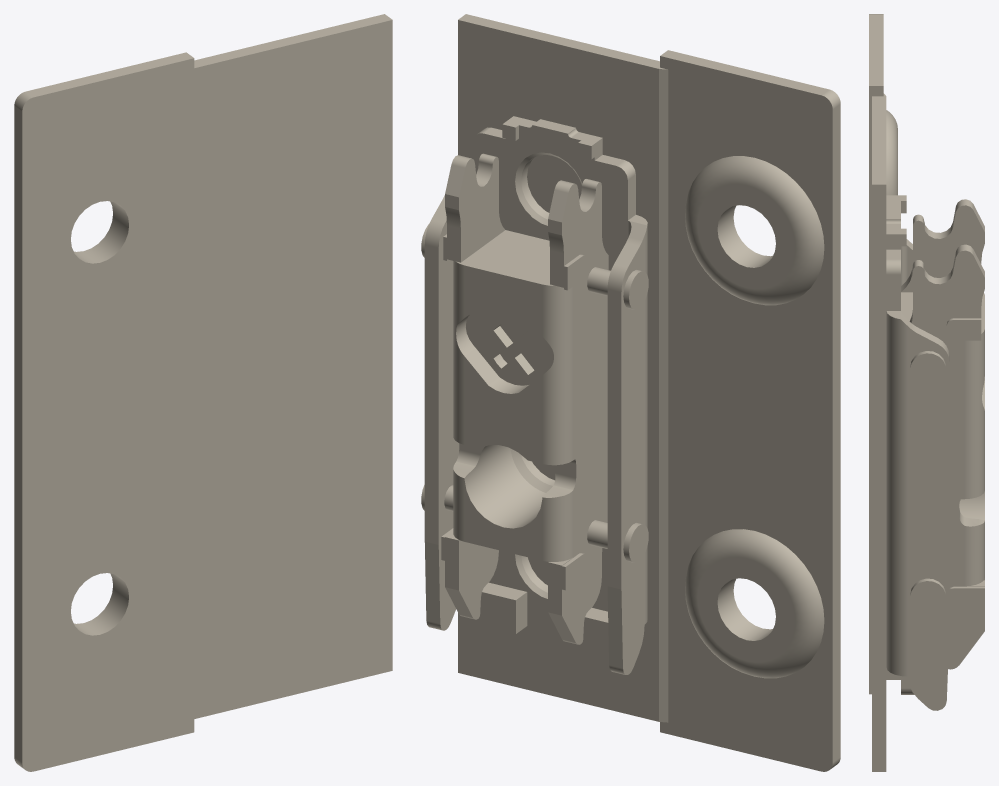
3 renders of one model, left to right at view 1: azimuth 30°, elevation 25°; view 2: azimuth 150°, elevation 25°; view 3: azimuth 270°, elevation 25°, orthographic. The views are drawn at different scales.
Visible parts, largest first — view 1: bau0018911312-2; view 2: bau0018911312-2, bau0027282328-2; view 3: bau0027282328-2, bau0018911312-2.
Part boxes in pixels (x1,y1,x2,y2): bau0018911312-2: [14, 14, 392, 771]; bau0018911312-2: [458, 14, 840, 771]; bau0027282328-2: [421, 116, 648, 674]; bau0027282328-2: [886, 195, 984, 710]; bau0018911312-2: [869, 14, 897, 771].
Bounding box in the file's own units: 33.83 × 58 × 10.
